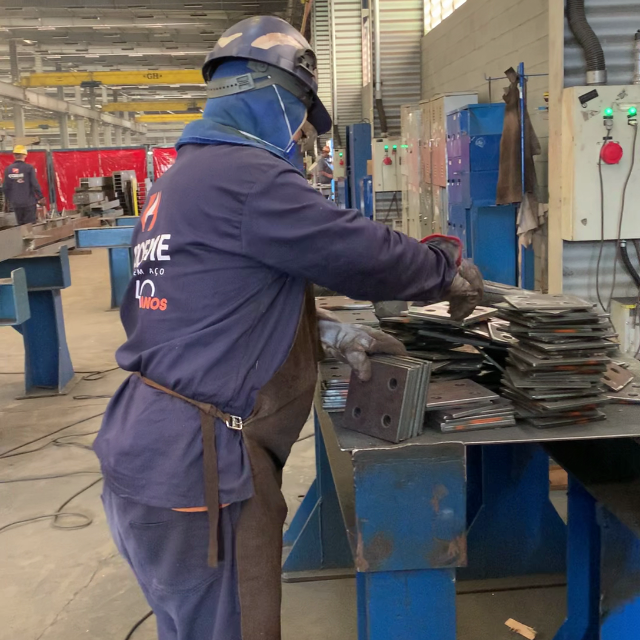glove: (445, 243, 485, 326)
helmet: (198, 13, 338, 137)
person: (93, 14, 488, 637)
